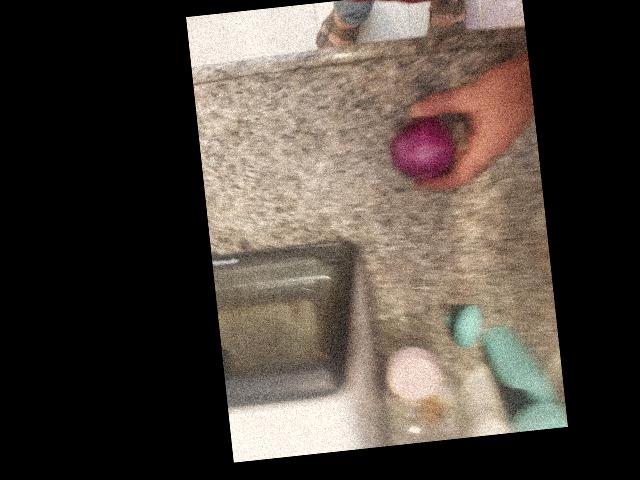onion: (204, 187, 294, 273)
